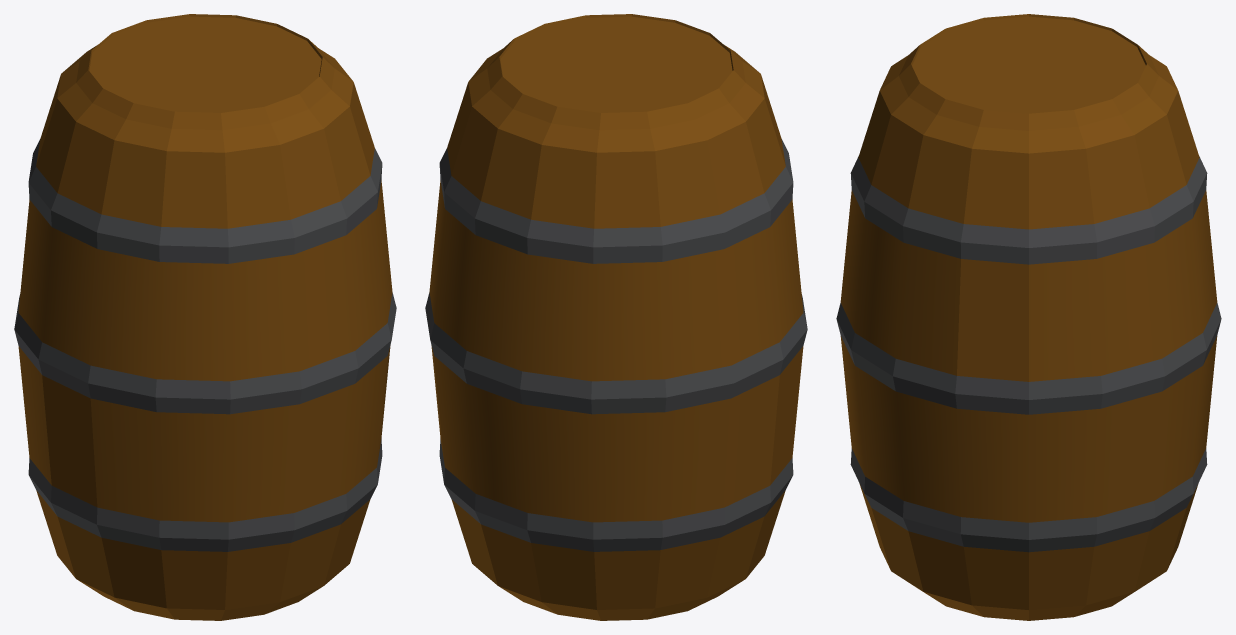
File: Barrel Textured.FBX
3 renders of one model, left to right at view 1: azimuth 30°, elevation 25°; view 2: azimuth 150°, elevation 25°; view 3: azimuth 270°, elevation 25°, orthographic.
Visible parts, largest first — view 1: Barrel; view 2: Barrel; view 3: Barrel.
Part boxes in pixels (x1,y1,x2,y2): Barrel: (14,14,396,620); Barrel: (425,14,807,620); Barrel: (836,14,1221,620).
Bounding box in the file's own units: 3.62 × 5.26 × 3.62.
2 materials, 2 textured.
